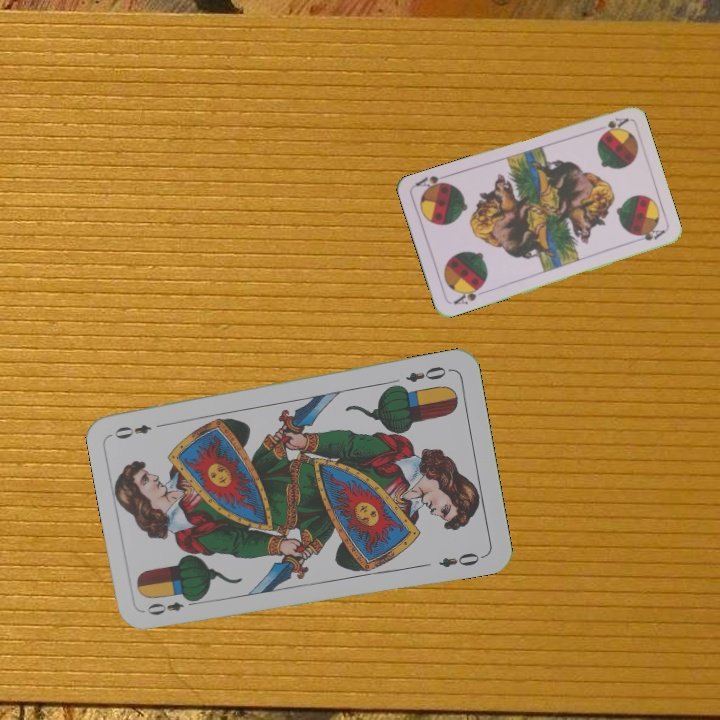EO: (143, 593, 201, 618), (402, 362, 449, 385)
SA: (449, 282, 485, 307), (598, 113, 630, 137)
